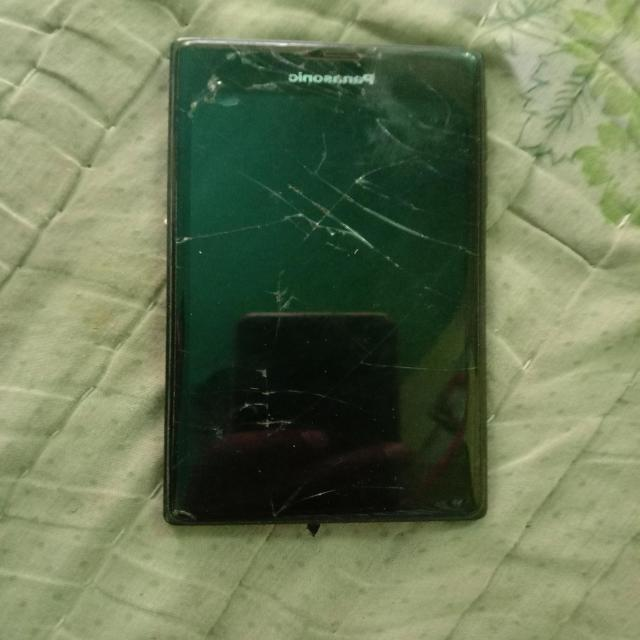mobile: (94, 26, 530, 583)
